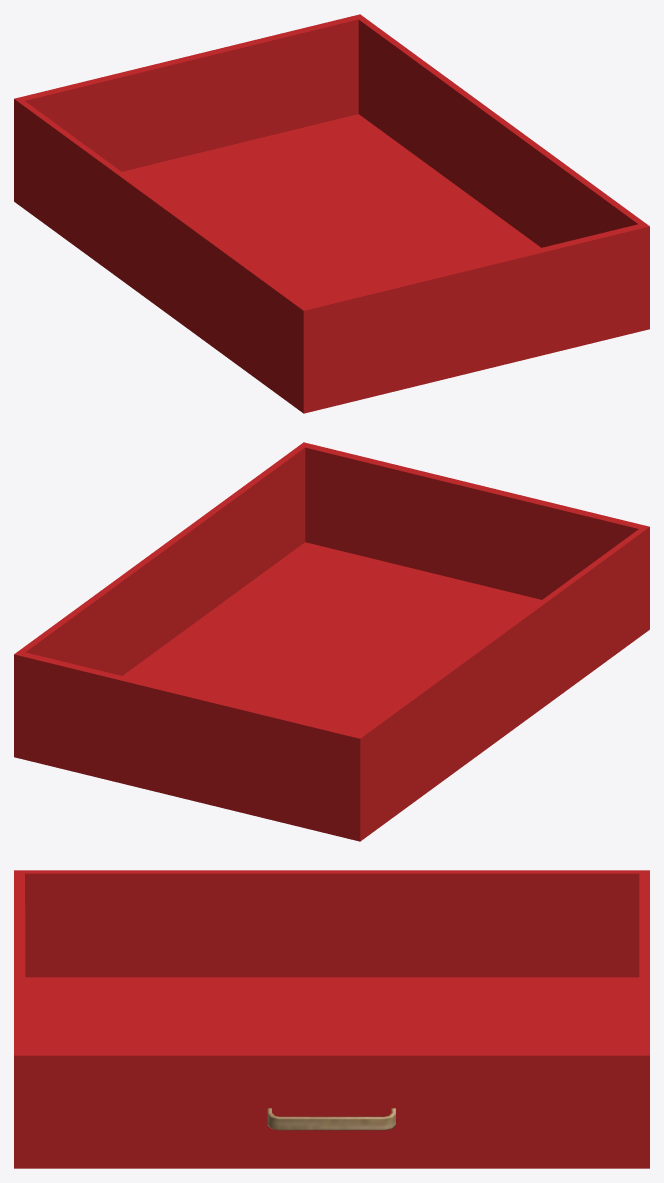
The model's file is MOD_COL_Bathroom_counter_door_01.fbx.
3 renders of one model, top to bottom at view 1: azimuth 30°, elevation 25°; view 2: azimuth 150°, elevation 25°; view 3: azimuth 270°, elevation 25°, orthographic. The views are drawn at different scales.
Visible parts, largest first — view 1: HSHP_MOD_Bathroom_counter_door_01; view 2: HSHP_MOD_Bathroom_counter_door_01; view 3: HSHP_MOD_Bathroom_counter_door_01.
Part boxes in pixels (box(x1,y1,x2,y2)): HSHP_MOD_Bathroom_counter_door_01: box(14, 14, 649, 413); HSHP_MOD_Bathroom_counter_door_01: box(14, 442, 649, 841); HSHP_MOD_Bathroom_counter_door_01: box(14, 870, 649, 1168).
Bounding box in the file's own units: 0.6584 × 0.1773 × 0.9054.
